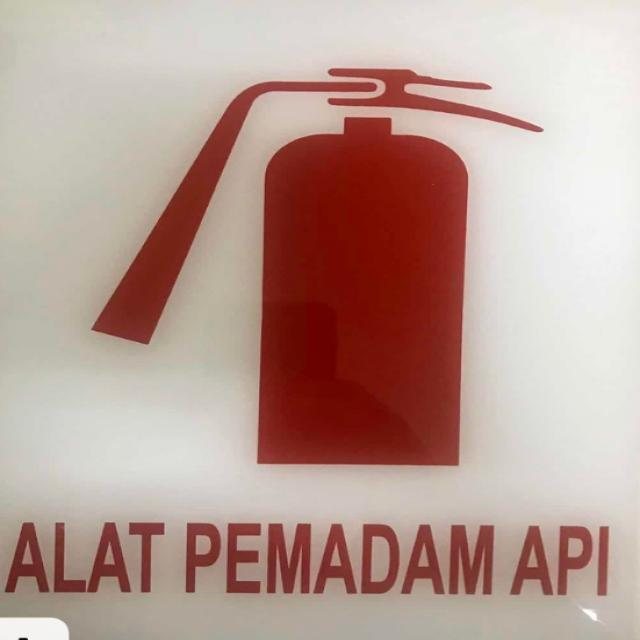fire signage: (11, 11, 634, 618)
